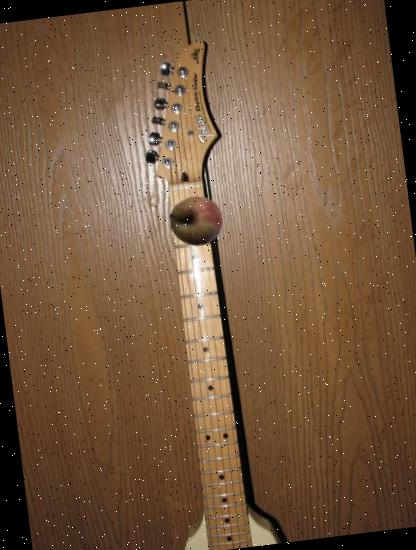Apple: (166, 191, 226, 251)
